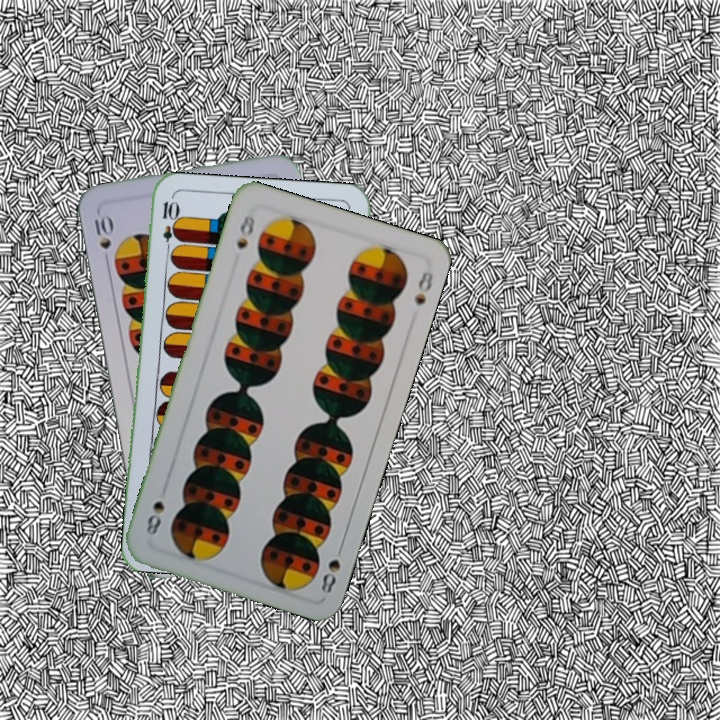E10: (158, 197, 178, 256)
S10: (90, 210, 114, 252)
S8: (317, 539, 346, 596), (232, 210, 258, 252)
